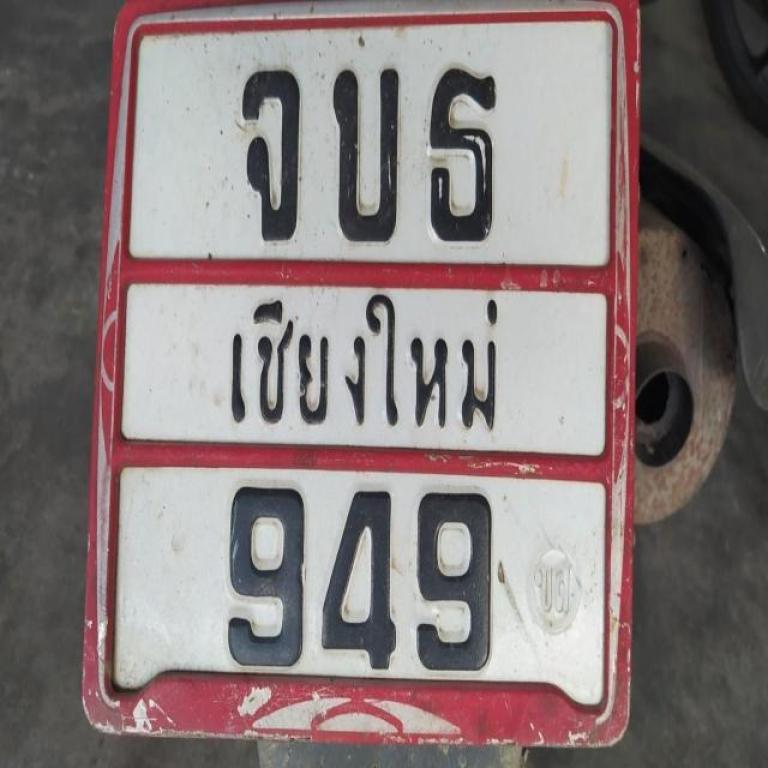license plate: (73, 0, 655, 731)
